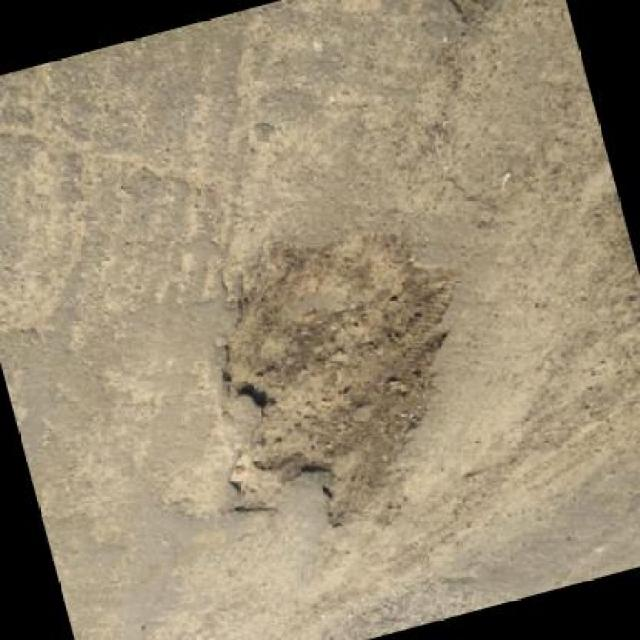pothole1: (164, 202, 518, 560), (425, 0, 549, 37)
